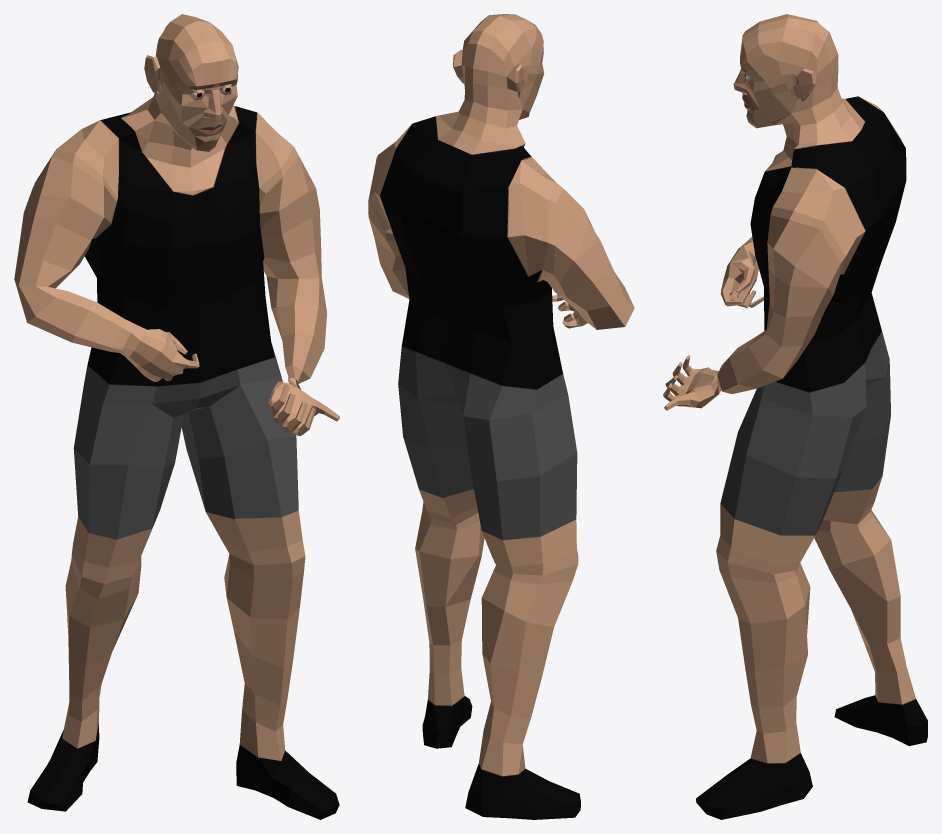
File: PlayerIdle(86).obj
The picture shows the model from 3 angles, left to right: view 1: azimuth 30°, elevation 25°; view 2: azimuth 150°, elevation 25°; view 3: azimuth 270°, elevation 25°; orthographic projection. The views are drawn at different scales.
Visible parts, largest first — view 1: Plane002; view 2: Plane002; view 3: Plane002.
Boxes of the visible parts, box(x1,y1,x2,y2) form: Plane002: box(14, 14, 339, 819); Plane002: box(368, 14, 634, 819); Plane002: box(663, 14, 927, 819).
Bounding box in the file's own units: 671 × 1801 × 575.
